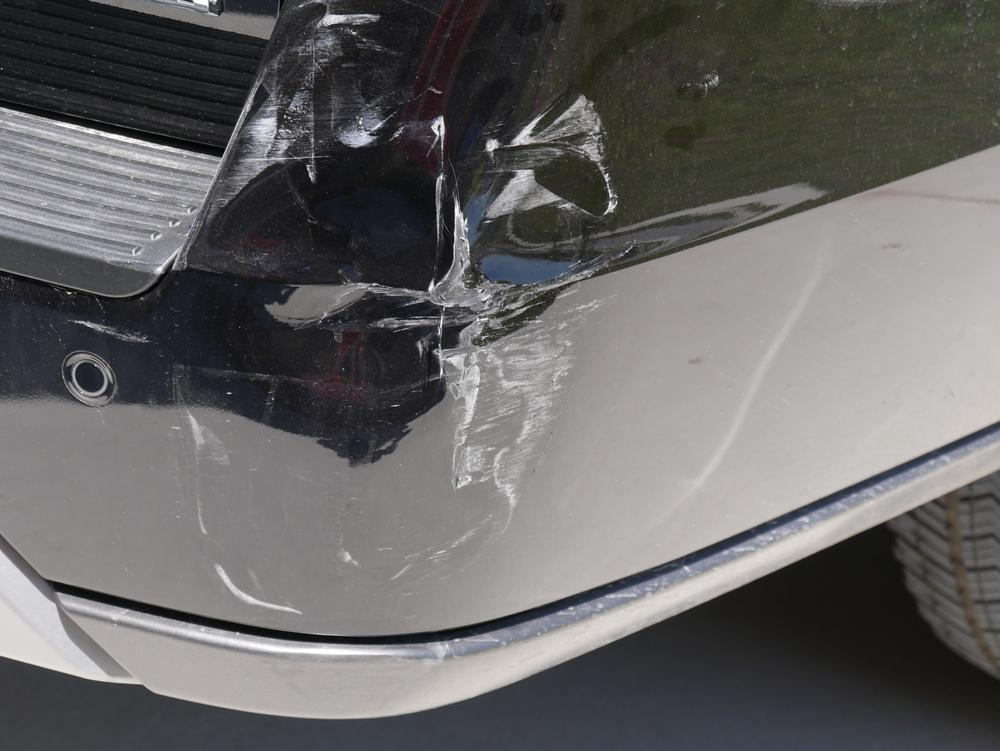dent: (185, 125, 608, 291)
scratch: (175, 238, 609, 619), (230, 0, 449, 192), (482, 90, 602, 165)
